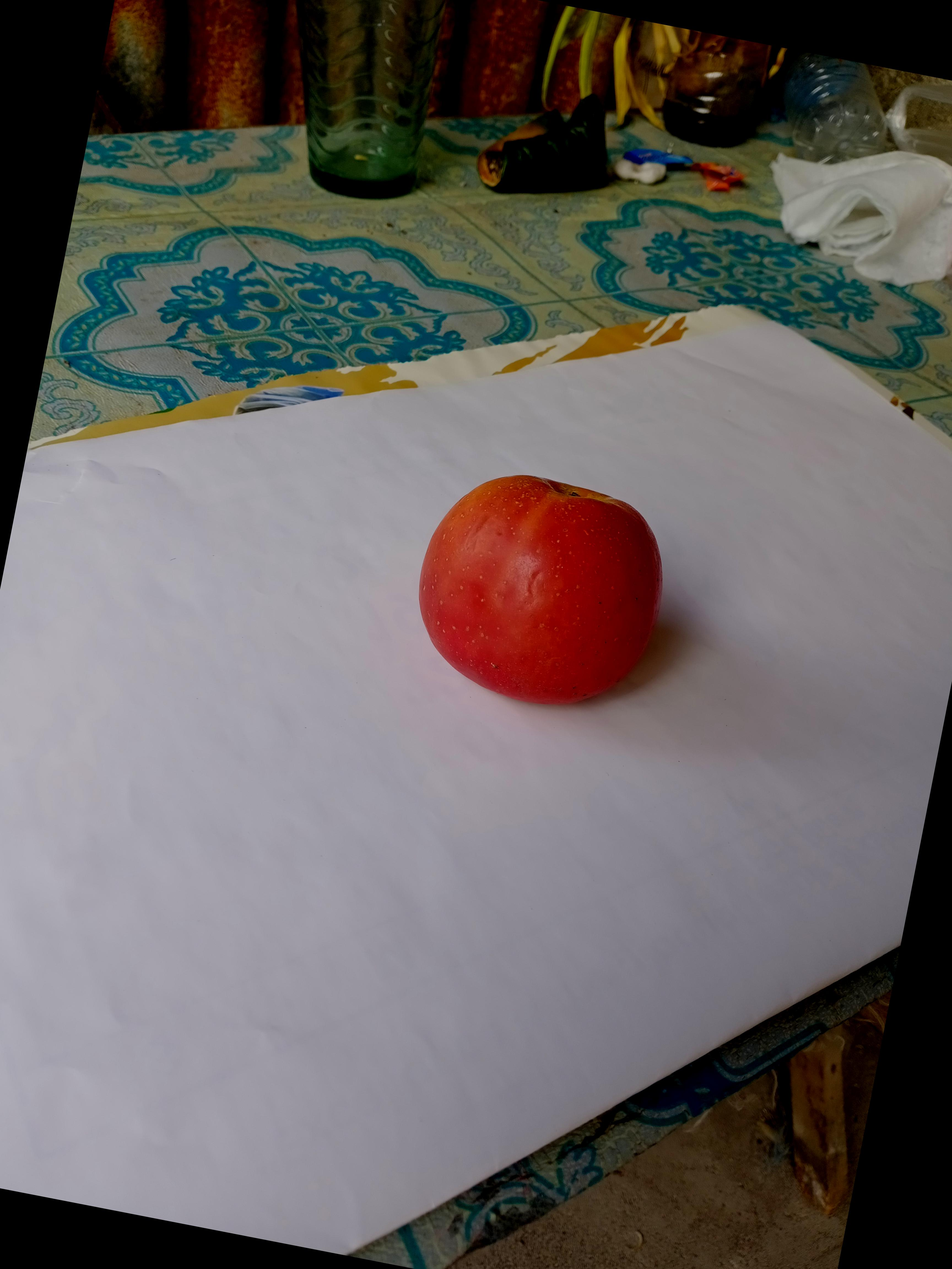Apple Ripe: (547, 340, 852, 628)
